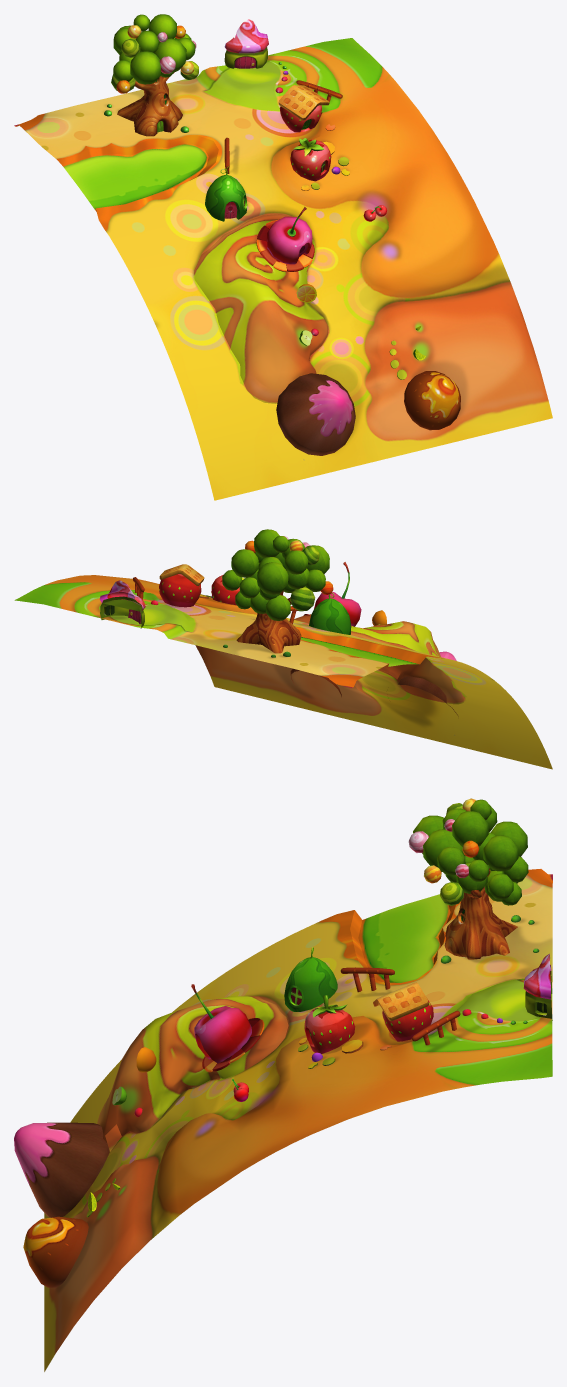
Rendered from seg1.fbx.
The picture shows the model from 3 angles, top to bottom: view 1: azimuth 30°, elevation 25°; view 2: azimuth 150°, elevation 25°; view 3: azimuth 270°, elevation 25°; orthographic projection. The views are drawn at different scales.
Parts seen in each view (by area): view 1: seg1; view 2: seg1; view 3: seg1.
Part boxes in pixels (left/top/right/bottom): seg1: left=14, top=14, right=552, bottom=500; seg1: left=14, top=529, right=552, bottom=769; seg1: left=14, top=798, right=552, bottom=1371.
Size of the model in its own units: 83.73 by 79.04 by 90.96.
2 materials, 2 textured.
